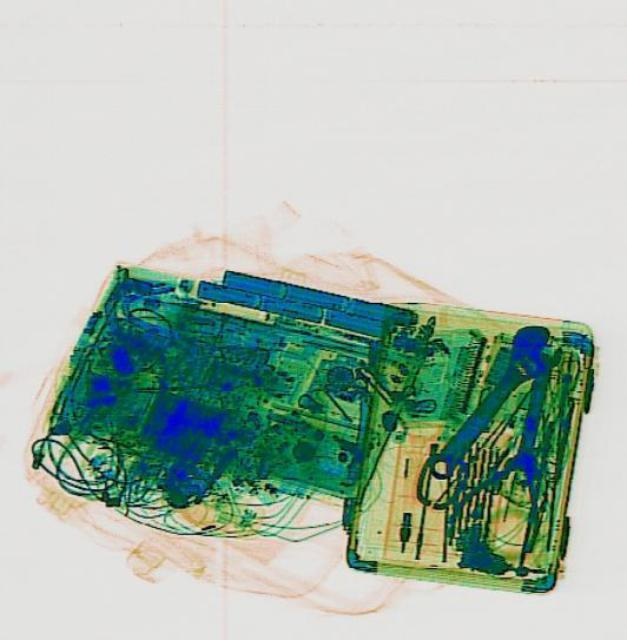Wrench: (412, 314, 571, 488), (500, 340, 563, 476)
